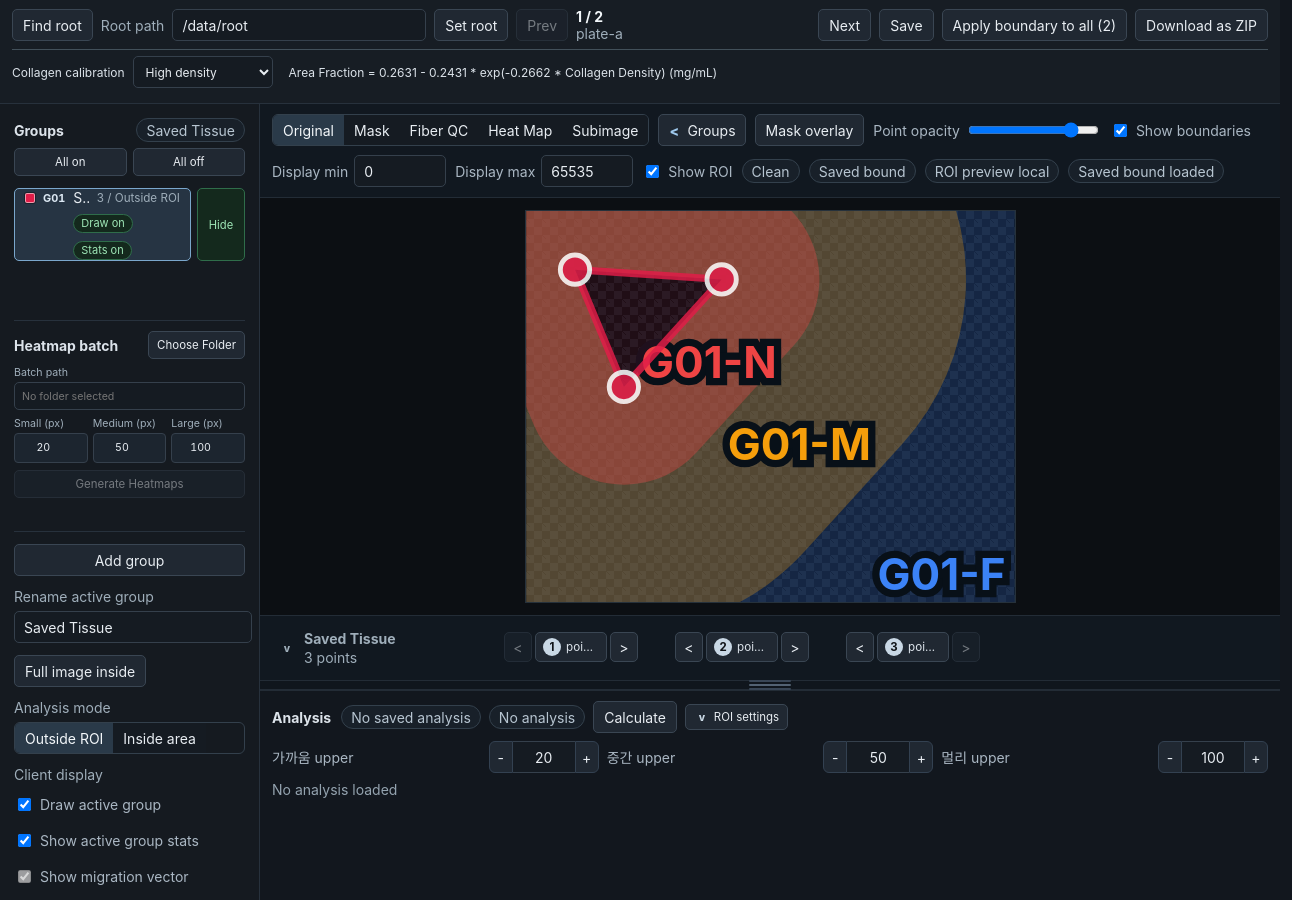
Test case: App › shows a missing mask error without hiding the original
This screenshot has width=1292, height=900.
Expected: the button "Saved Tissue" is shown, [14,188,191,261]
Click the button "Mask overlay" at {"x": 809, "y": 130}, box [754,114,864,146]
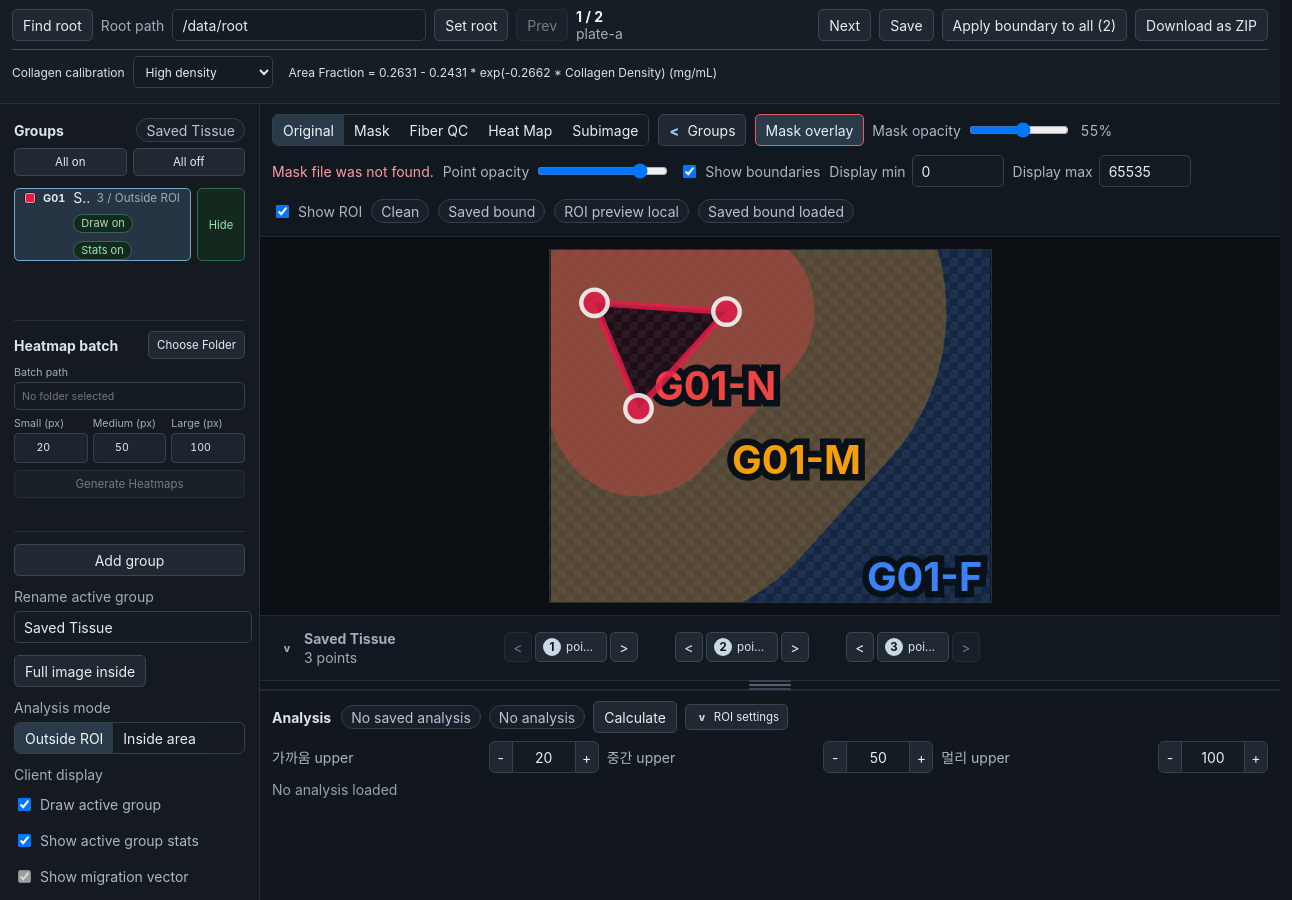
Expected: the message "Mask file was not found." is shown, [272,162,434,180]
